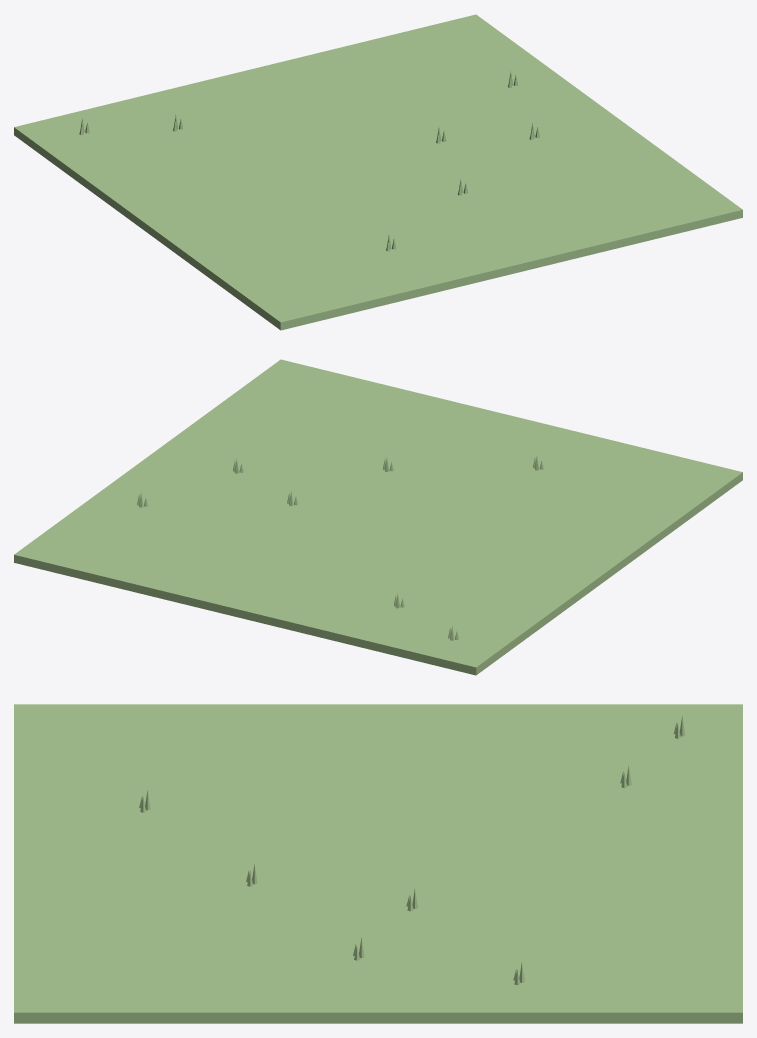
File: caravan-park-and-campsite-grass-pitch-tile-2fb907e5__35354.glb
3 views of the same model, one above another, from view 1: azimuth 30°, elevation 25°; view 2: azimuth 150°, elevation 25°; view 3: azimuth 270°, elevation 25° (orthographic). The views are drawn at different scales.
Parts seen in each view (by area): view 1: grass-pitch-tile-grass; view 2: grass-pitch-tile-grass; view 3: grass-pitch-tile-grass.
Part boxes in pixels (x1,y1,x2,y2): grass-pitch-tile-grass: (14, 14, 742, 330); grass-pitch-tile-grass: (14, 359, 742, 675); grass-pitch-tile-grass: (14, 704, 742, 1023).
Size of the model in its own units: 6 by 0.2798 by 6.
